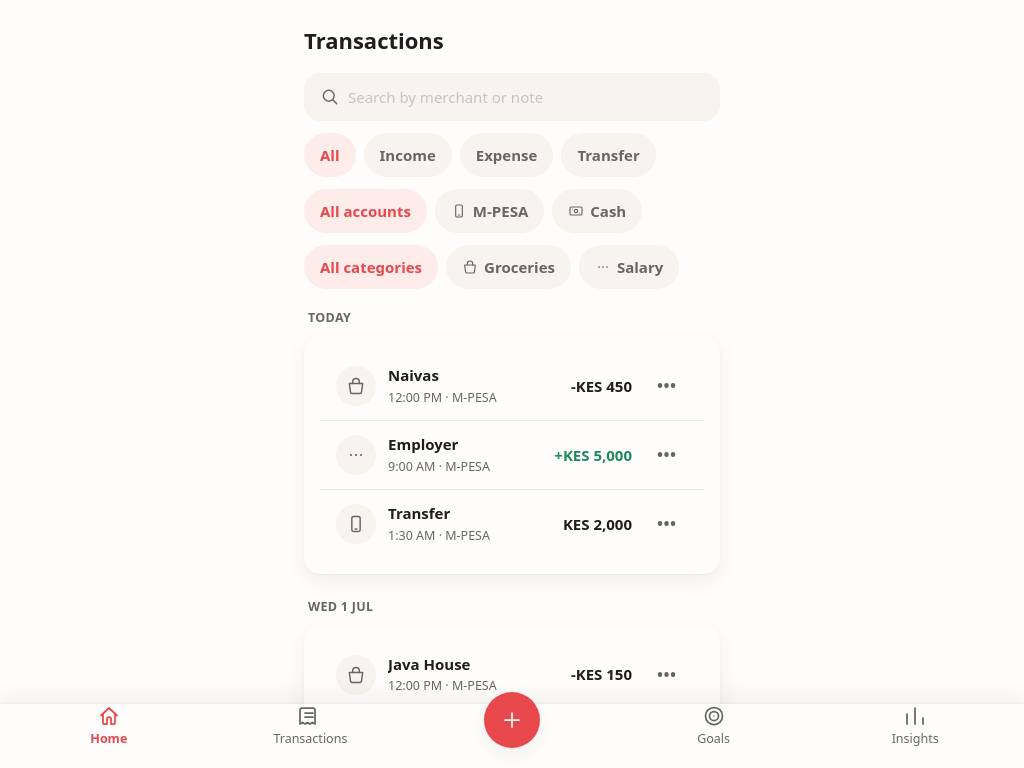
Test: Transactions › shows a distinct "no matches" empty state (with a clear-filters action) when filters exclude everything
Type "nonexistent-merchant" into the field named "Search transactions".
click(512, 97); type("nonexistent-merchant")  # box [304,73,720,121]
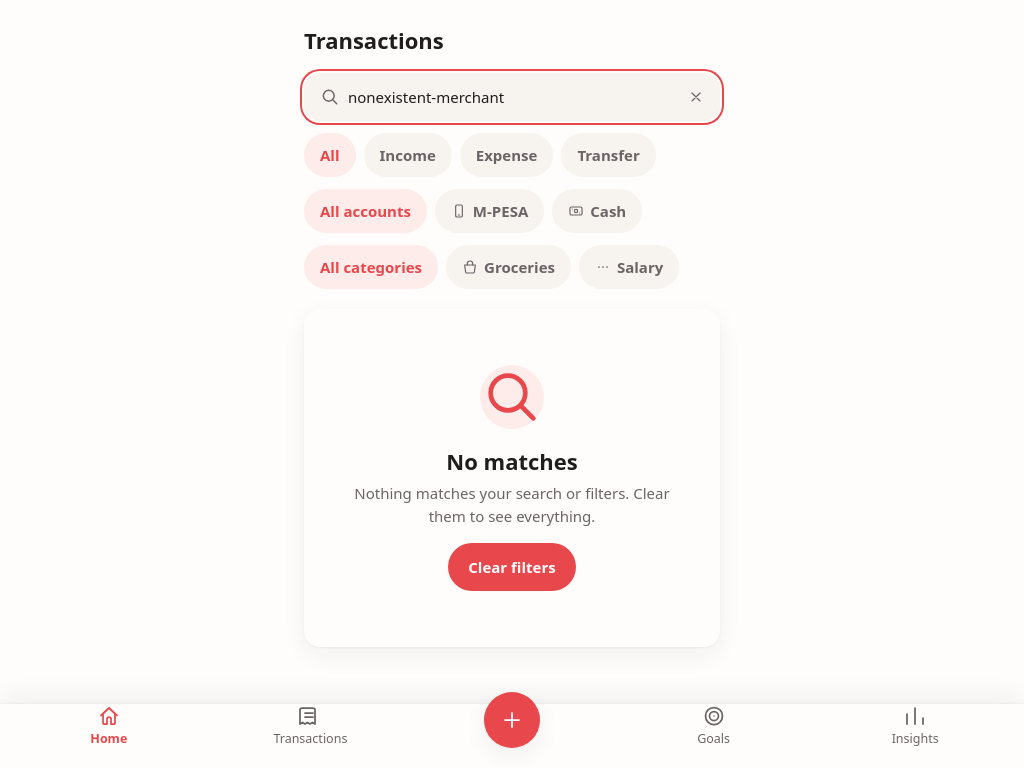
Now the heading "No matches" is shown, box [446,446,578,476]
Click the button "Clear filters".
click(512, 567)  # box [448,543,576,591]
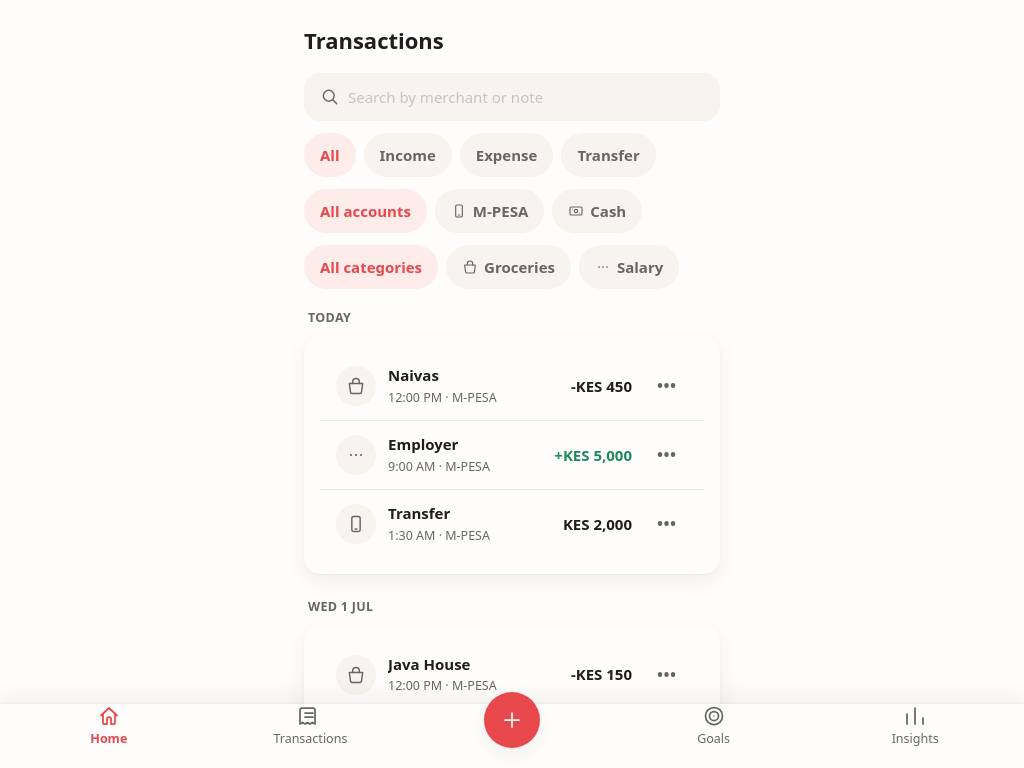
Now the text "Naivas" is shown, box [388,365,439,385]
